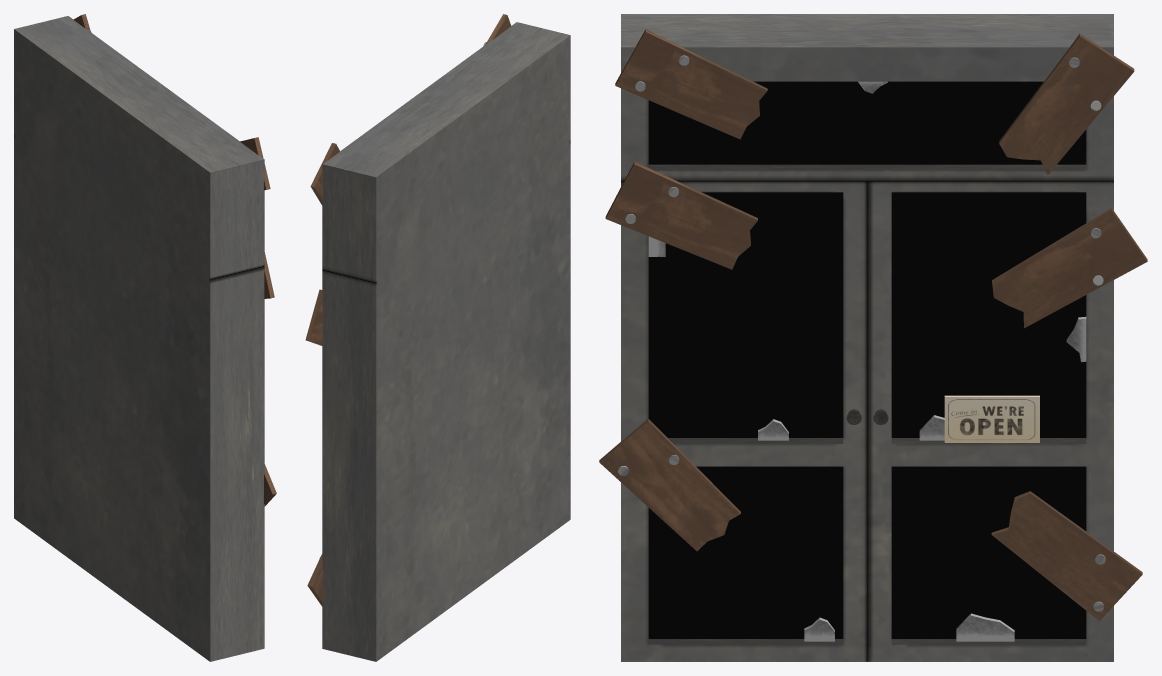
Rendered from Door.fbx.
3 renders of one model, left to right at view 1: azimuth 30°, elevation 25°; view 2: azimuth 150°, elevation 25°; view 3: azimuth 270°, elevation 25°, orthographic. The views are drawn at different scales.
Visible parts, largest first — view 1: Door; view 2: Door; view 3: Door.
Part boxes in pixels (bbox=[...]): Door: bbox=[14, 14, 276, 661]; Door: bbox=[305, 14, 570, 661]; Door: bbox=[599, 14, 1147, 661].
Size of the model in its own units: 76.29 by 599 by 470.
